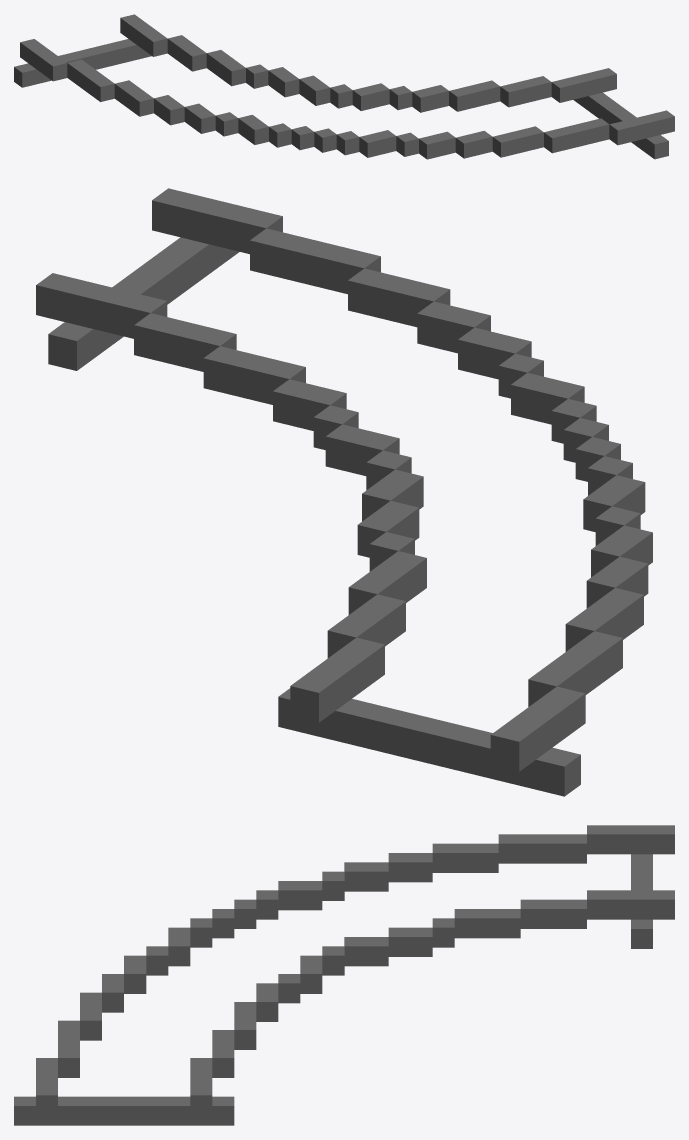
The model's file is rail_turn_3x3.dae.
The picture shows the model from 3 angles, top to bottom: view 1: azimuth 30°, elevation 25°; view 2: azimuth 150°, elevation 25°; view 3: azimuth 270°, elevation 25°; orthographic projection. The views are drawn at different scales.
Parts seen in each view (by area): view 1: rail_turn_3x3; view 2: rail_turn_3x3; view 3: rail_turn_3x3.
Part boxes in pixels (x1,y1,x2,y2): rail_turn_3x3: (14, 14, 674, 159); rail_turn_3x3: (36, 188, 652, 796); rail_turn_3x3: (14, 825, 674, 1125).
Size of the model in its own units: 3 by 0.2 by 3.
1 material, 1 textured.
